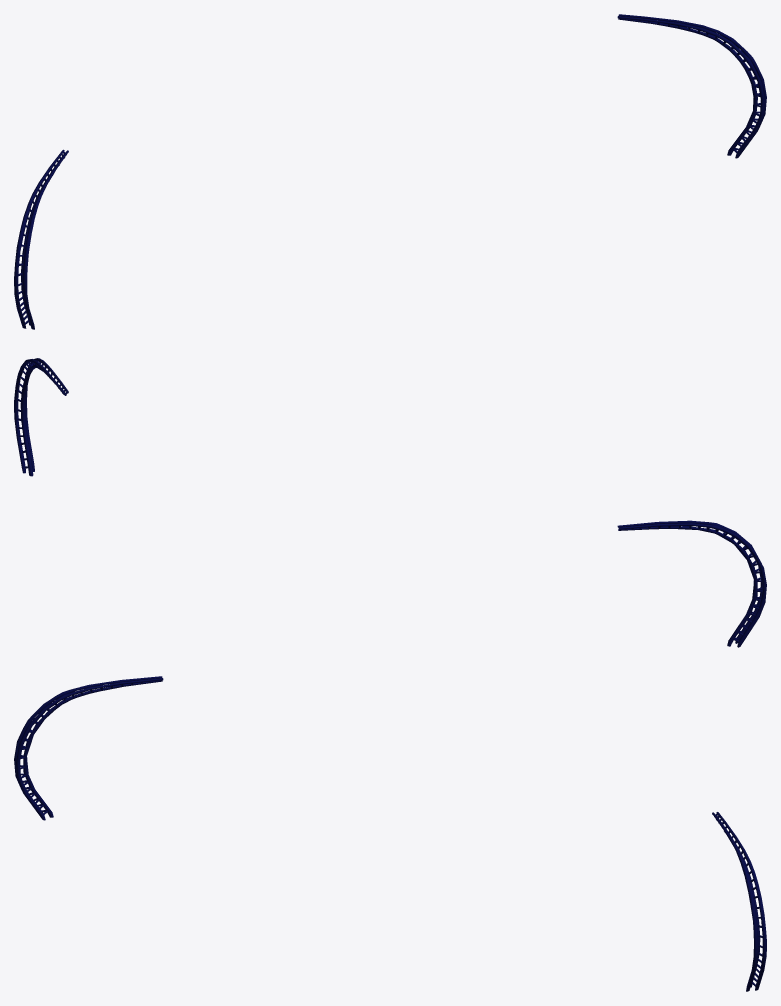
The model's file is Al_Nasar_Football_Stadium_NurbsPath_018.FBX.
The picture shows the model from 3 angles, top to bottom: view 1: azimuth 30°, elevation 25°; view 2: azimuth 150°, elevation 25°; view 3: azimuth 330°, elevation 25°; orthographic projection.
Visible parts, largest first — view 1: Al_Nasar_Football_Stadium_NurbsPath_018; view 2: Al_Nasar_Football_Stadium_NurbsPath_018; view 3: Al_Nasar_Football_Stadium_NurbsPath_018.
Part boxes in pixels (left/top/right/bottom): Al_Nasar_Football_Stadium_NurbsPath_018: left=14, top=14, right=766, bottom=329; Al_Nasar_Football_Stadium_NurbsPath_018: left=14, top=358, right=766, bottom=647; Al_Nasar_Football_Stadium_NurbsPath_018: left=14, top=676, right=766, bottom=991.
Size of the model in its own units: 23481 by 2941 by 3873.
